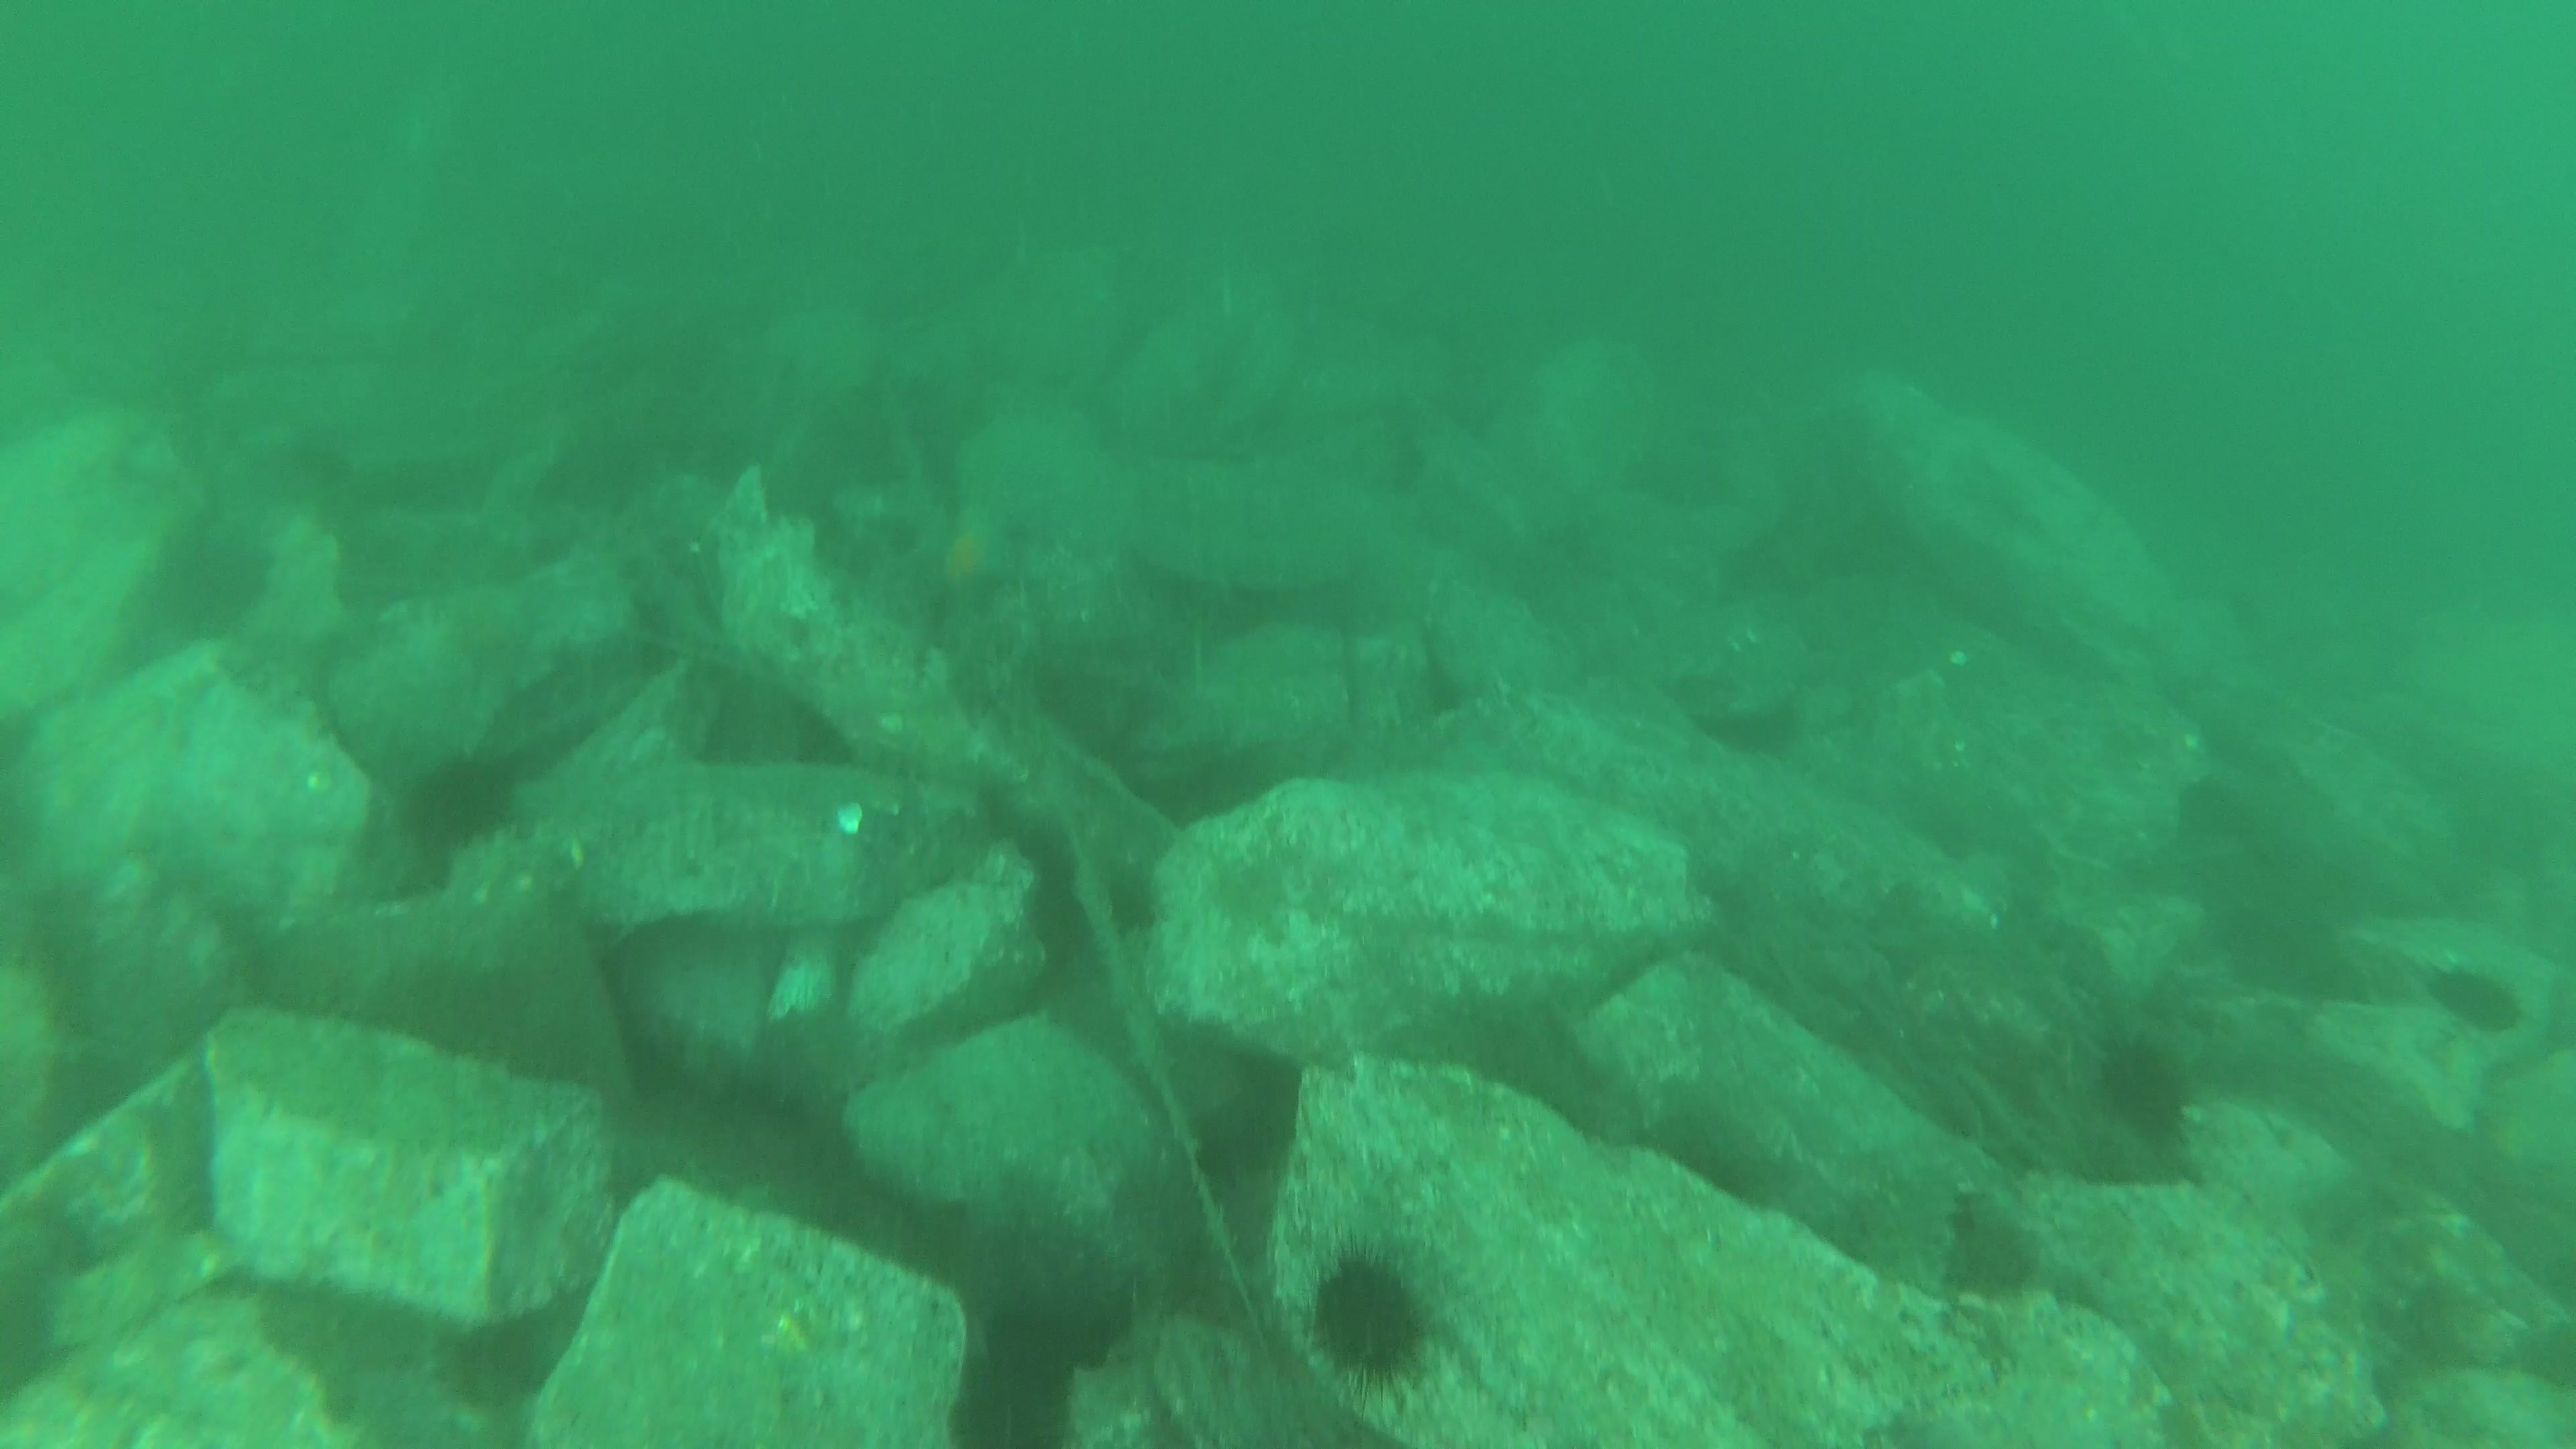echinus: (1302, 1244, 1438, 1389), (147, 513, 278, 642), (395, 743, 525, 860), (2088, 1031, 2201, 1150), (2424, 957, 2526, 1039)
starfish: (916, 495, 1026, 614)
